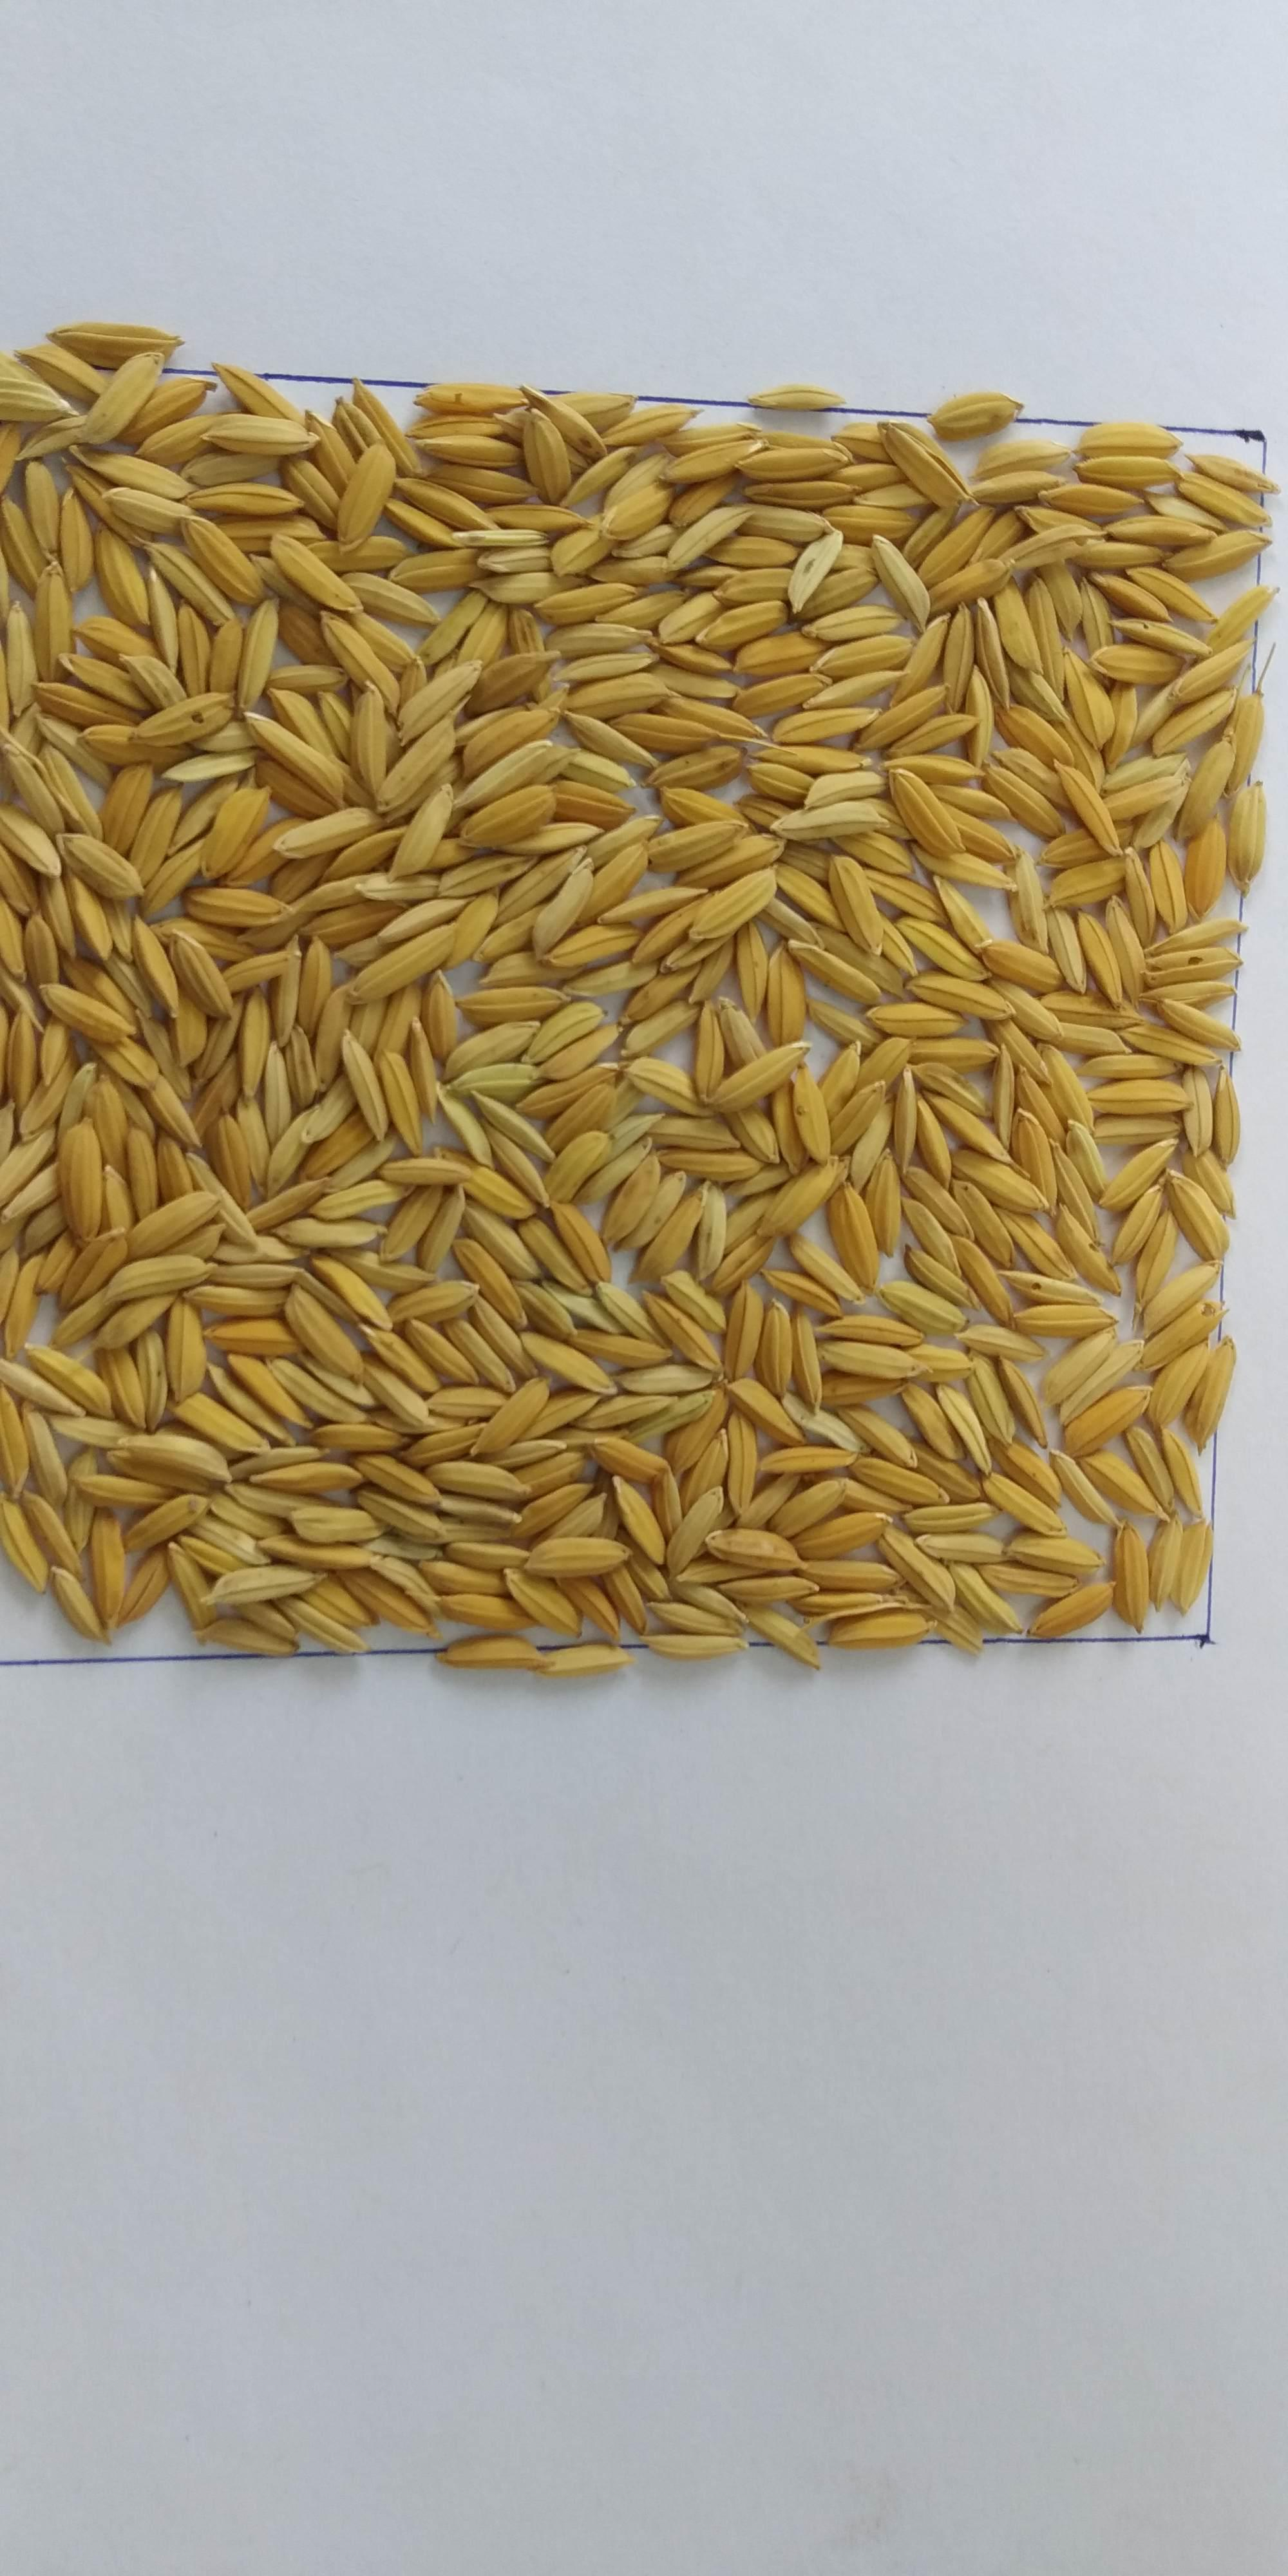pure: (0, 302, 1283, 1717)
